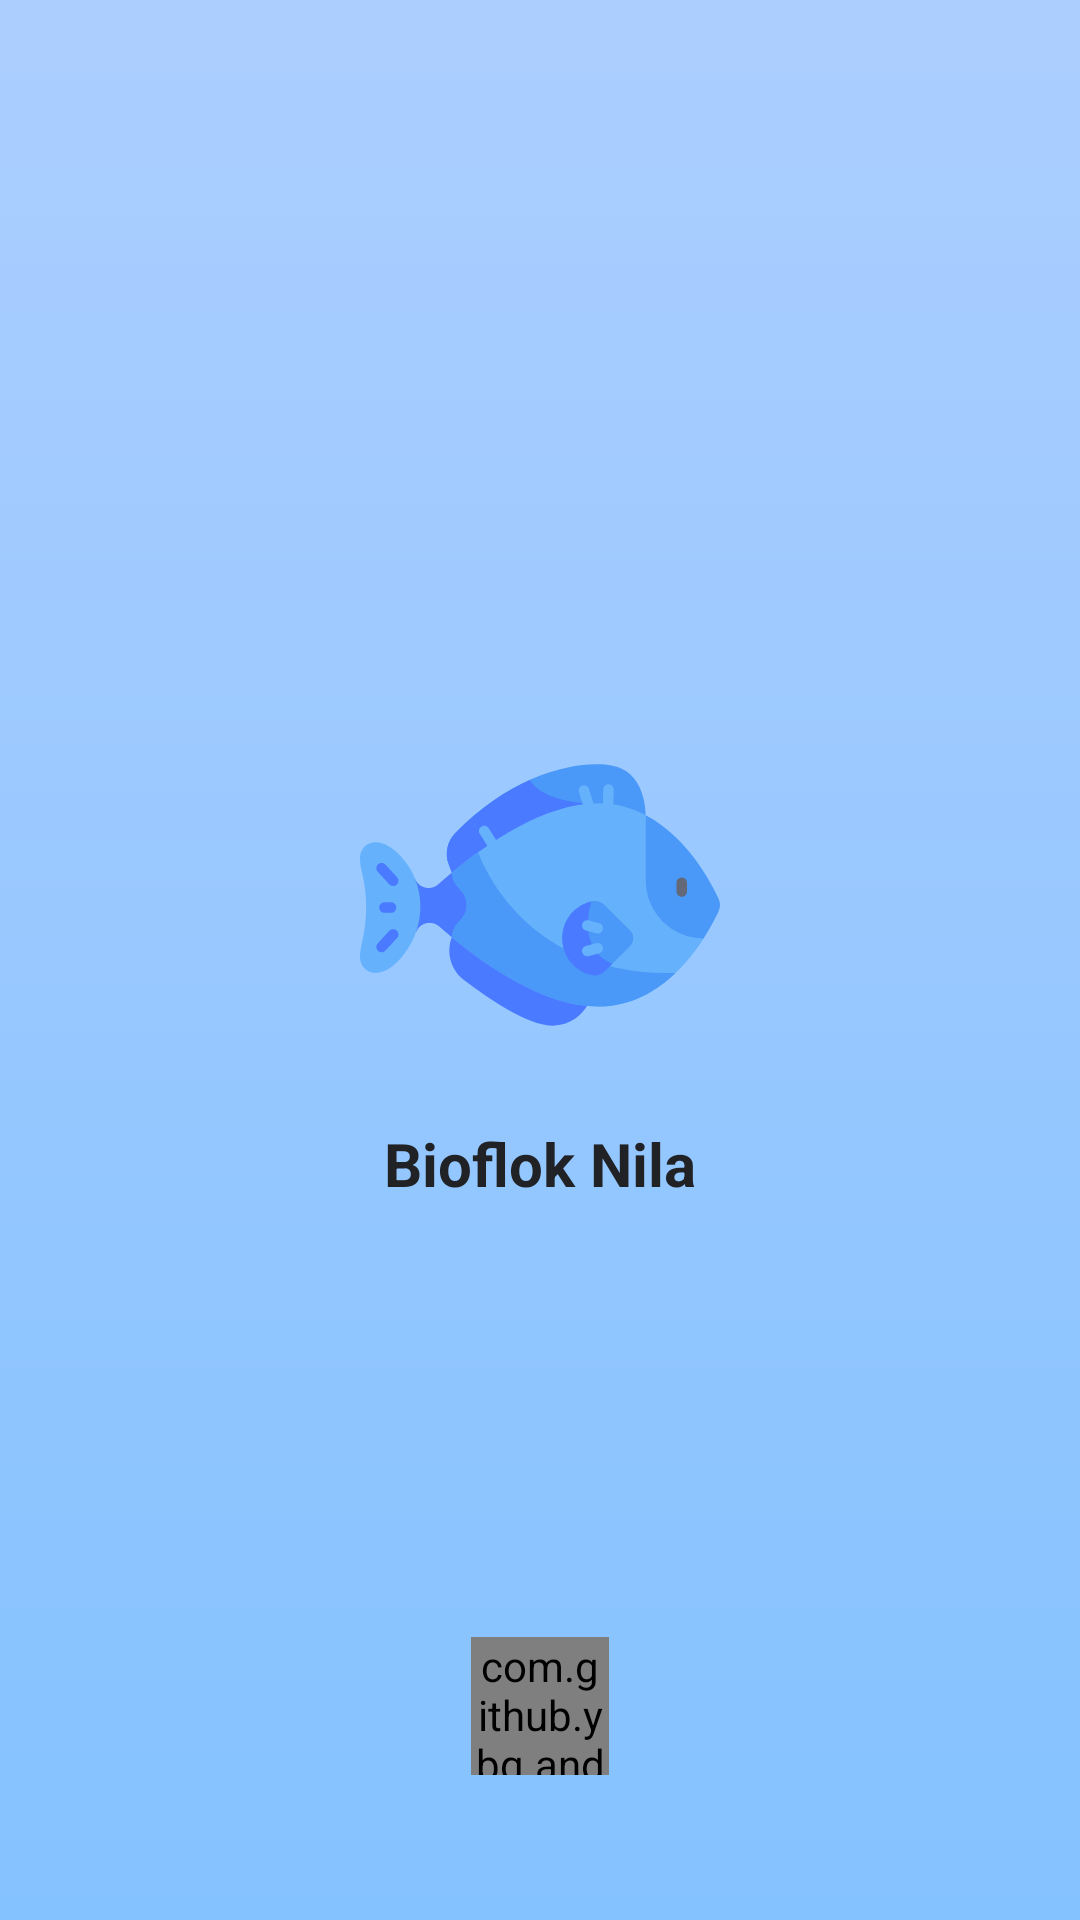

Locate icon controls on the screen. Image size 1080*1920, boxes as (x1,y1,x2,y2).
fish: (360,764,720,1026)
